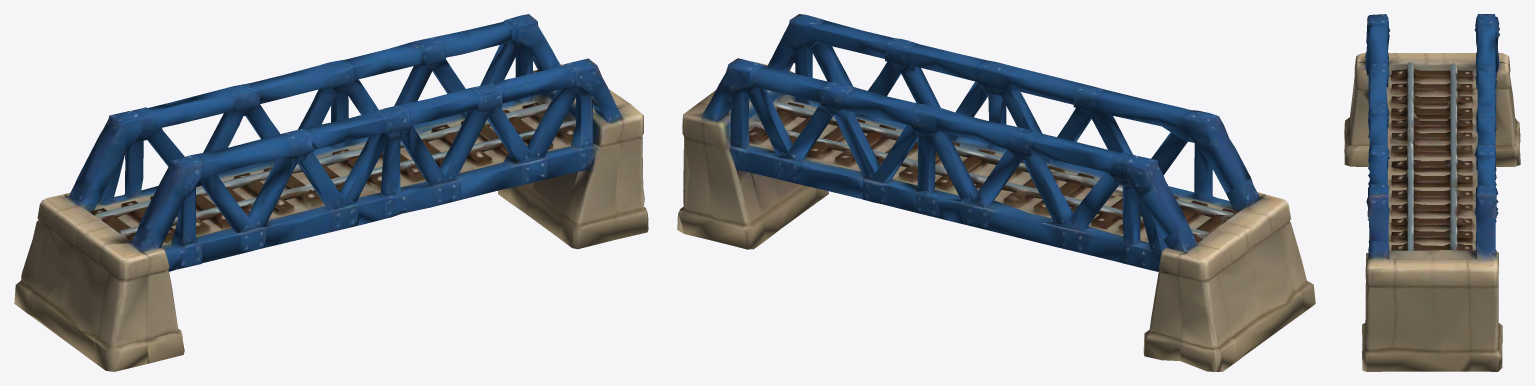
Rendered from metal-bridge.glb.
3 renders of one model, left to right at view 1: azimuth 30°, elevation 25°; view 2: azimuth 150°, elevation 25°; view 3: azimuth 270°, elevation 25°, orthographic. The views are drawn at different scales.
Visible parts, largest first — view 1: metal-bridge; view 2: metal-bridge; view 3: metal-bridge.
Part boxes in pixels (x1,y1,x2,y2): metal-bridge: [14, 14, 648, 371]; metal-bridge: [677, 14, 1315, 371]; metal-bridge: [1344, 14, 1520, 371].
Size of the model in its own units: 13.03 by 4 by 4.06.
Materials: 1 (1 with a texture image).
